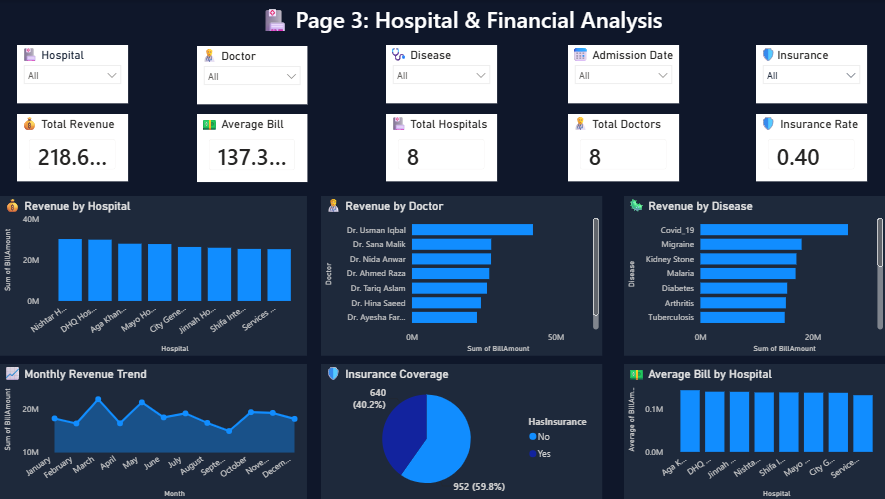

This screenshot's page, from the dashboard's own definition file:
{"tool":"powerbi","page":{"name":"🏥 Page 3: Hospital & Financial Analysis","canvas":[1280,720],"ordinal":2},"visuals":[{"type":"shape","box":[0,0,1280,104.1],"z":0},{"type":"textbox","box":[119.3,0,1093.5,92.4],"z":1000},{"type":"cardVisual","title":"💰 Total Revenue","fields":{"Data":["Dim Disease.Total Revenue"]},"box":[26.9,164.6,159.6,97.4],"z":2000},{"type":"cardVisual","title":"💵 Average Bill","fields":{"Data":["Avg(Fact Healthcare.BillAmount)"]},"box":[286.8,163.9,159,98.3],"z":3000},{"type":"cardVisual","title":"🏥 Total Hospitals","fields":{"Data":["Dim Disease.Total Hospitals"]},"box":[559.4,164.6,159.6,97.4],"z":4000},{"type":"cardVisual","title":"👨⚕️ Total Doctors","fields":{"Data":["Dim Disease.Total Doctors"]},"box":[821.4,164.6,159.6,97.4],"z":5000},{"type":"cardVisual","title":"🛡️ Insurance Rate ","fields":{"Data":["Dim Patient.Insurance %"]},"box":[1091.9,164.6,159.6,97.4],"z":6000},{"type":"clusteredColumnChart","title":" 💰 Revenue by Hospital","fields":{"Y":["Sum(Fact Healthcare.BillAmount)"],"Category":["Fact Healthcare.Hospital"]},"box":[3.4,282.2,441.8,230.1],"z":7000},{"type":"clusteredBarChart","title":" 👨⚕️ Revenue by Doctor","fields":{"Category":["Fact Healthcare.Doctor"],"Y":["Sum(Fact Healthcare.BillAmount)"]},"box":[465.3,282.2,404.8,230.1],"z":8000},{"type":"clusteredBarChart","title":"🦠 Revenue by Disease","fields":{"Category":["Fact Healthcare.Disease"],"Y":["Sum(Fact Healthcare.BillAmount)"]},"box":[902,282.2,378,230.1],"z":9000},{"type":"lineChart","title":"📈 Monthly Revenue Trend","fields":{"Category":["Fact Healthcare.AdmissionDate.Variation.Date Hierarchy.Month"],"Y":["Sum(Fact Healthcare.BillAmount)"]},"box":[3.4,524.1,441.8,196.5],"z":10000},{"type":"pieChart","title":"🛡️ Insurance Coverage","fields":{"Y":["CountNonNull(Fact Healthcare.PatientID)"],"Category":["Dim Patient.HasInsurance"]},"box":[465.3,524.1,404.8,196.5],"z":11000},{"type":"clusteredColumnChart","title":"💵 Average Bill by Hospital","fields":{"Y":["Avg(Fact Healthcare.BillAmount)"],"Category":["Fact Healthcare.Hospital"]},"box":[902,524.1,378,196.5],"z":12000},{"type":"slicer","title":"🏥 Hospital","fields":{"Values":["Fact Healthcare.Hospital"]},"box":[26.9,65.5,159.6,84],"z":13000},{"type":"slicer","title":"👨⚕️ Doctor","fields":{"Values":["Fact Healthcare.Doctor"]},"box":[286.8,65.6,159,83.6],"z":14000},{"type":"slicer","title":"🩺 Disease","fields":{"Values":["Fact Healthcare.Disease"]},"box":[559.4,65.5,159.6,84],"z":15000},{"type":"slicer","title":"📅 Admission Date","fields":{"Values":["Fact Healthcare.AdmissionDate"]},"box":[821.4,65.5,159.6,84],"z":16000},{"type":"slicer","title":"🛡️Insurance","fields":{"Values":["Dim Patient.HasInsurance"]},"box":[1091.9,65.5,159.6,84],"z":17000}]}

Visuals, with their boxes in screenshot pixels (x1, y1, x2, y2), scaled from the page's 1280x720 canvas onto the 885x499 screenshot:
shape: 0,0,884,72
textbox: 82,0,839,64
"💰 Total Revenue" cardVisual: 19,114,129,182
"💵 Average Bill" cardVisual: 198,114,308,182
"🏥 Total Hospitals" cardVisual: 387,114,497,182
"👨⚕️ Total Doctors" cardVisual: 568,114,678,182
"🛡️ Insurance Rate " cardVisual: 755,114,865,182
" 💰 Revenue by Hospital" clusteredColumnChart: 2,196,308,355
" 👨⚕️ Revenue by Doctor" clusteredBarChart: 322,196,602,355
"🦠 Revenue by Disease" clusteredBarChart: 624,196,884,355
"📈 Monthly Revenue Trend" lineChart: 2,363,308,498
"🛡️ Insurance Coverage" pieChart: 322,363,602,498
"💵 Average Bill by Hospital" clusteredColumnChart: 624,363,884,498
"🏥 Hospital" slicer: 19,45,129,104
"👨⚕️ Doctor" slicer: 198,45,308,103
"🩺 Disease" slicer: 387,45,497,104
"📅 Admission Date" slicer: 568,45,678,104
"🛡️Insurance" slicer: 755,45,865,104
